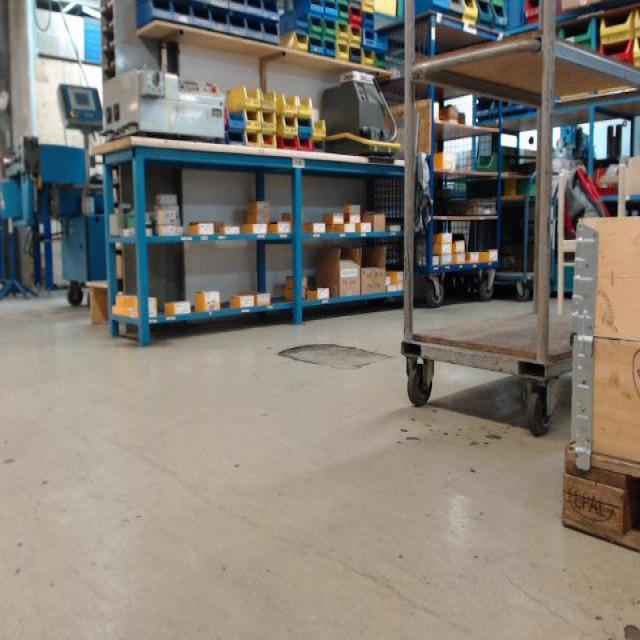pallet: (560, 444, 640, 554)
